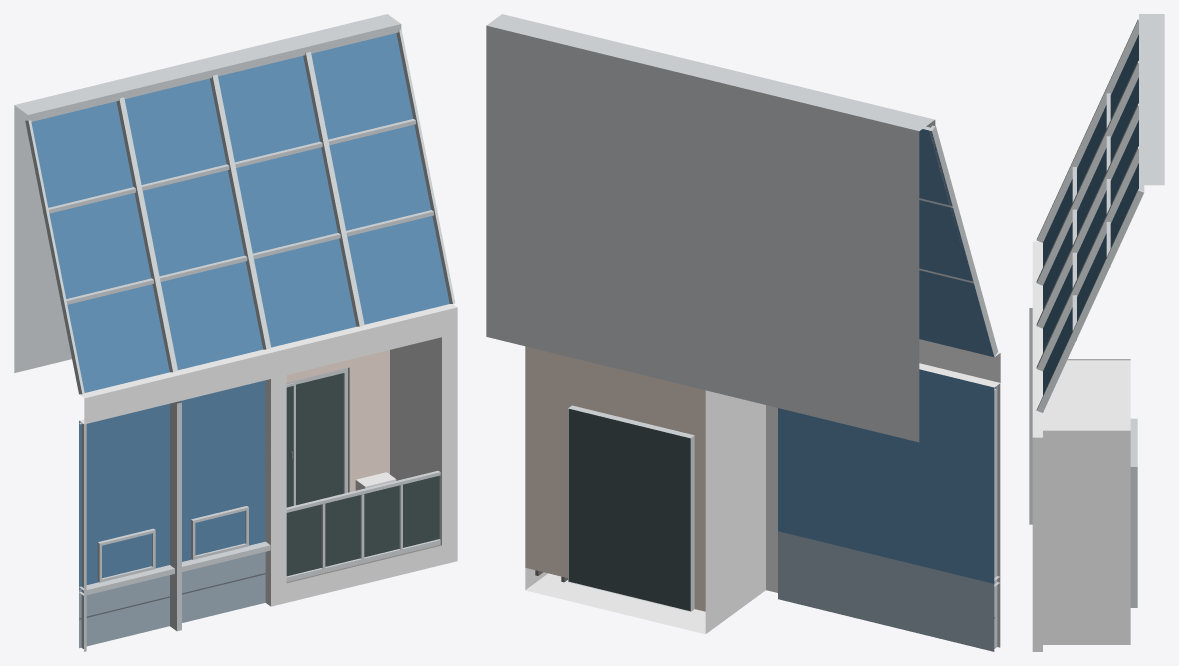
File: top-w1_close.fbx
3 renders of one model, left to right at view 1: azimuth 30°, elevation 25°; view 2: azimuth 150°, elevation 25°; view 3: azimuth 270°, elevation 25°, orthographic. The views are drawn at different scales.
Visible parts, largest first — view 1: a2011/0/top-w1_close; view 2: a2011/0/top-w1_close; view 3: a2011/0/top-w1_close.
Part boxes in pixels (x1,y1,x2,y2): a2011/0/top-w1_close: (14, 14, 457, 651); a2011/0/top-w1_close: (486, 14, 1000, 651); a2011/0/top-w1_close: (1029, 14, 1164, 651).
Bounding box in the file's own units: 6 × 7.62 × 2.
